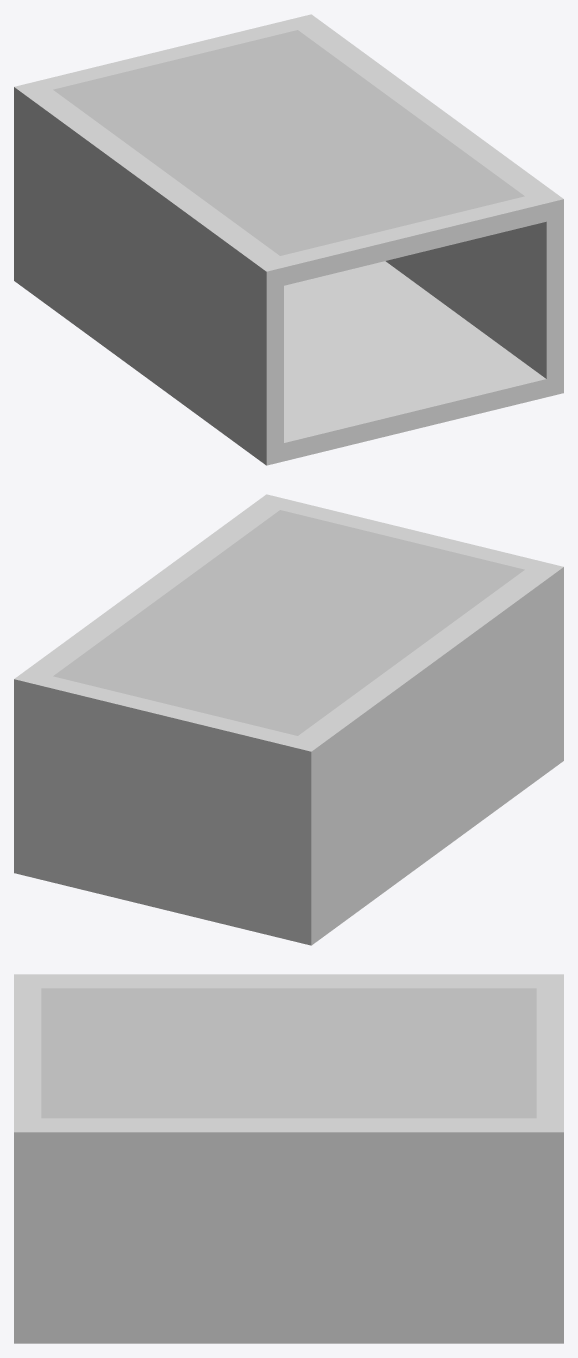
Rendered from KAC-F1000_FridgeSBS_V1_FreezerDrawerHolder.glb.
The picture shows the model from 3 angles, top to bottom: view 1: azimuth 30°, elevation 25°; view 2: azimuth 150°, elevation 25°; view 3: azimuth 270°, elevation 25°; orthographic projection. The views are drawn at different scales.
Visible parts, largest first — view 1: KAC-F1000_FridgeSBS_V1_FreezerDrawerHolder; view 2: KAC-F1000_FridgeSBS_V1_FreezerDrawerHolder; view 3: KAC-F1000_FridgeSBS_V1_FreezerDrawerHolder.
Part boxes in pixels (left/top/right/bottom): KAC-F1000_FridgeSBS_V1_FreezerDrawerHolder: left=14, top=14, right=563, bottom=465; KAC-F1000_FridgeSBS_V1_FreezerDrawerHolder: left=14, top=494, right=563, bottom=945; KAC-F1000_FridgeSBS_V1_FreezerDrawerHolder: left=14, top=974, right=563, bottom=1343.
Bounding box in the file's own units: 0.34 × 0.2119 × 0.5.
Materials: 1 (1 with a texture image).
